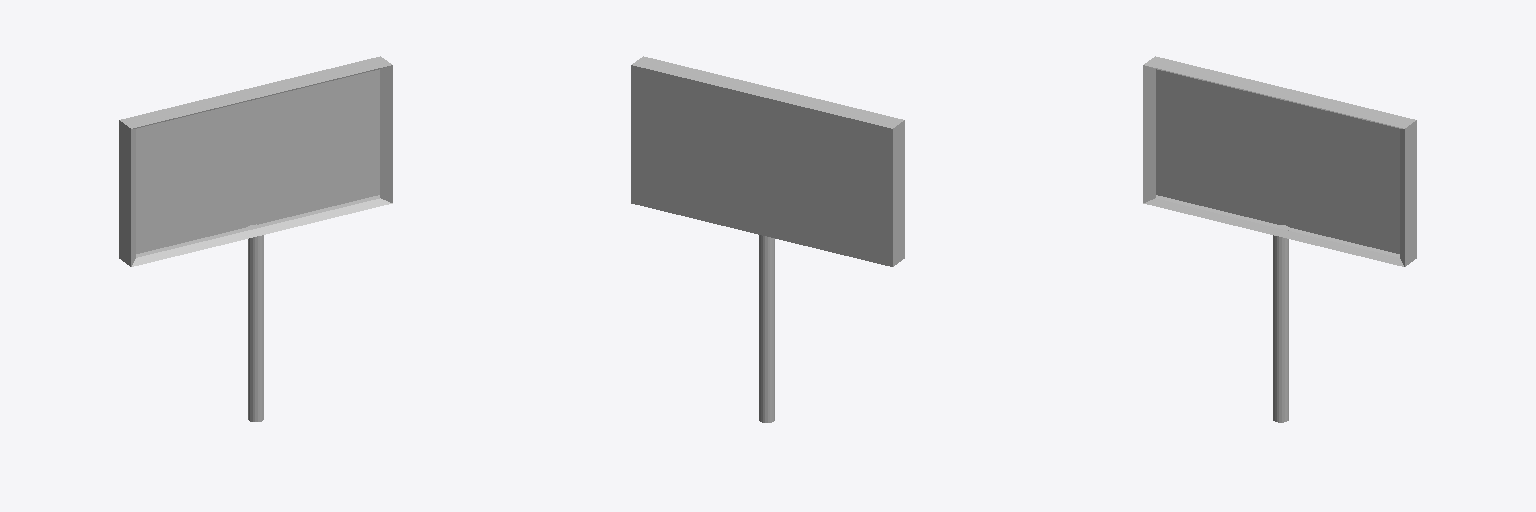
File: billboardBody.obj
3 renders of one model, left to right at view 1: azimuth 30°, elevation 25°; view 2: azimuth 150°, elevation 25°; view 3: azimuth 330°, elevation 25°, orthographic.
Size of the model in its own units: 10.22 by 12.21 by 0.8105.